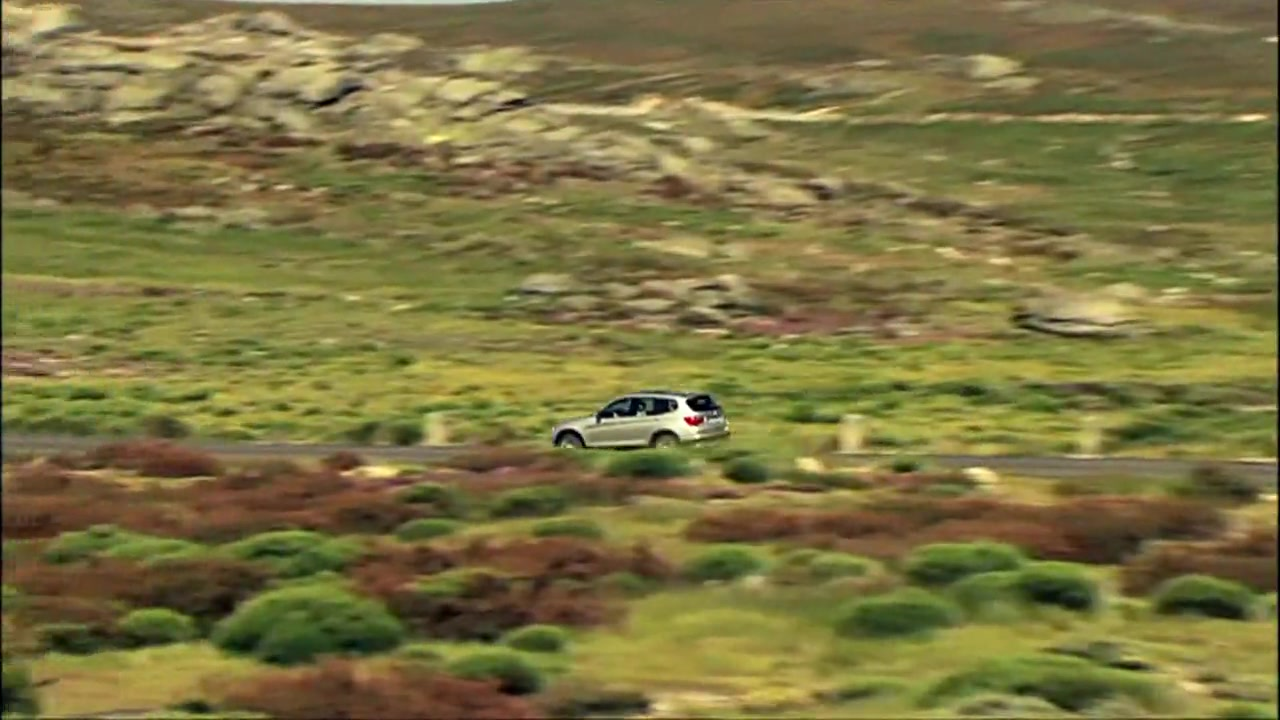car: (551, 392, 729, 454)
